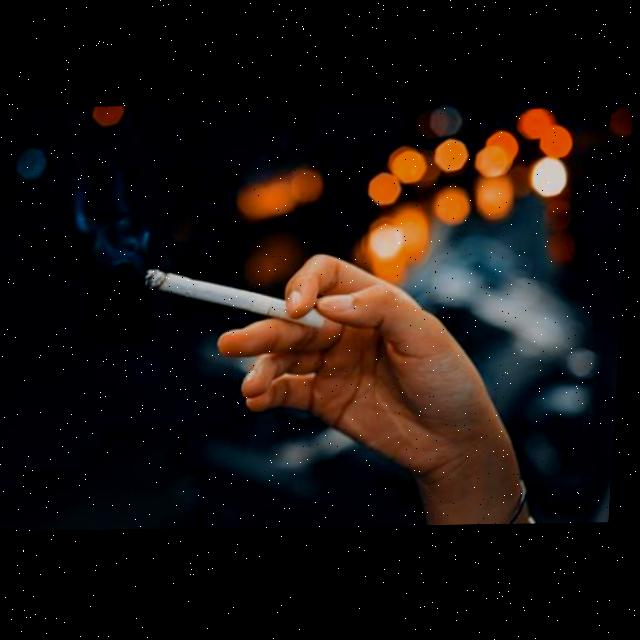cigarette: (146, 267, 332, 331)
